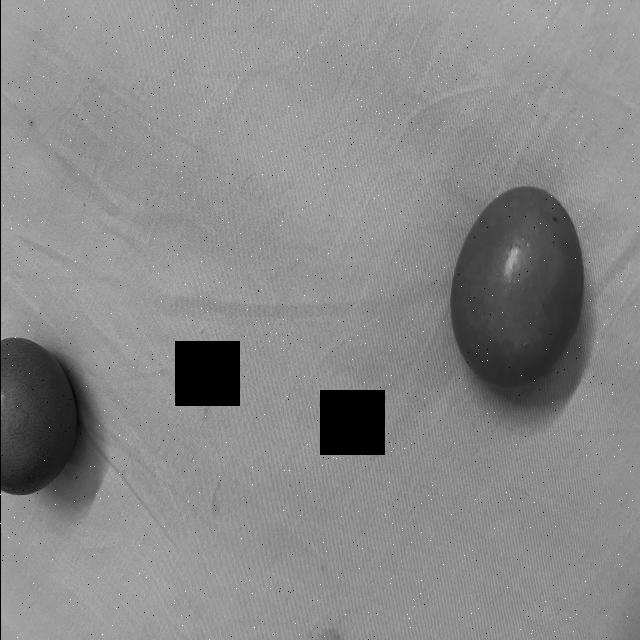egg: (443, 176, 588, 392), (0, 336, 88, 499)
